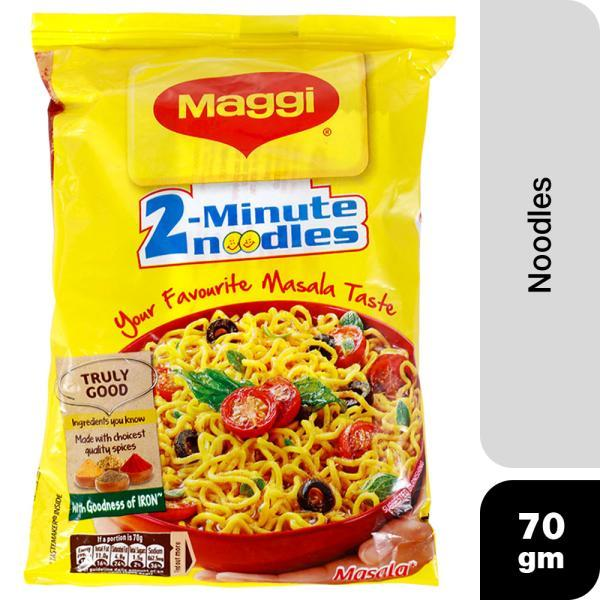Maggi: (25, 9, 461, 587)
